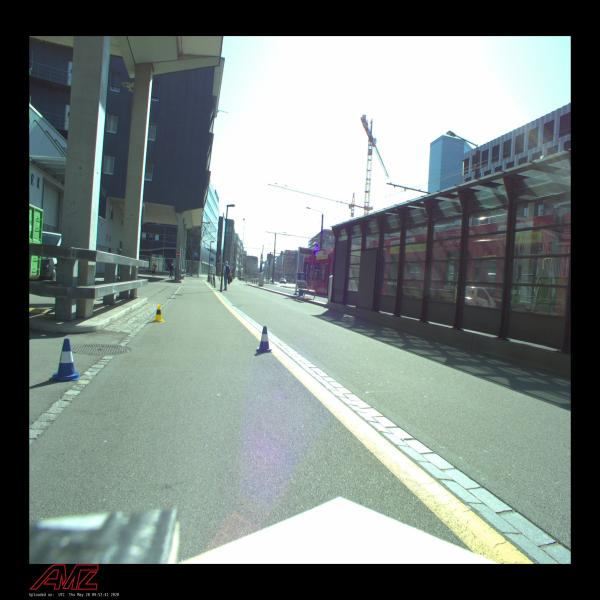blue_cone: (50, 339, 80, 381), (255, 326, 274, 352)
yellow_cone: (153, 304, 164, 322)
